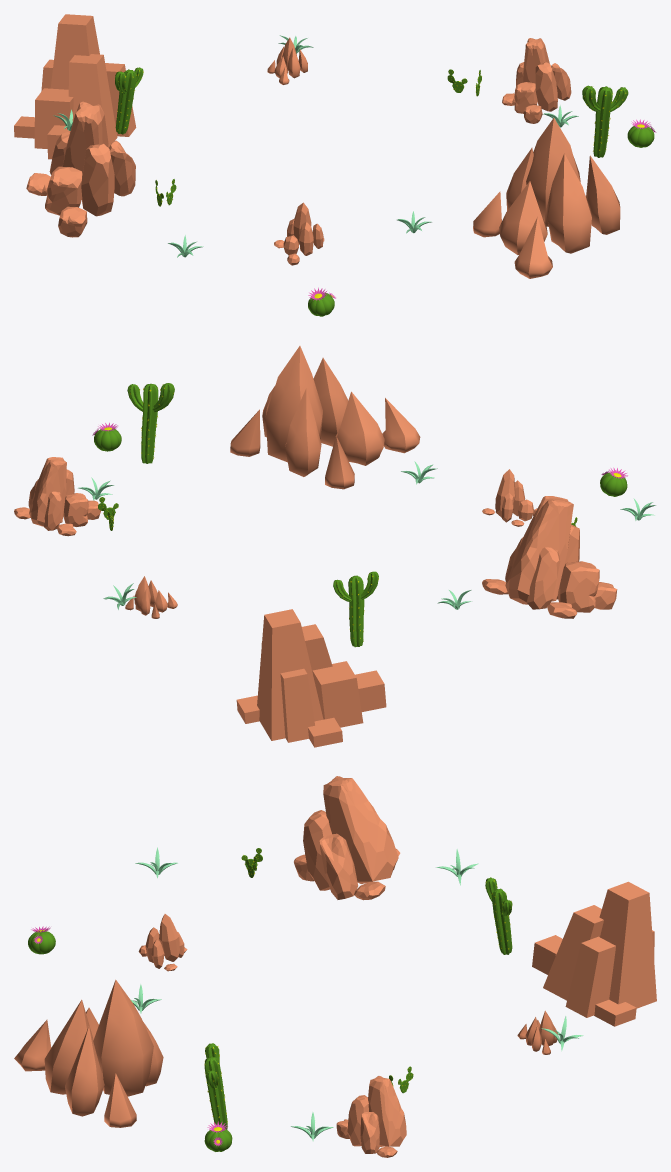
File: desert.glb
3 renders of one model, top to bottom at view 1: azimuth 30°, elevation 25°; view 2: azimuth 150°, elevation 25°; view 3: azimuth 270°, elevation 25°, orthographic. The views are drawn at different scales.
Visible parts, largest first — view 1: rock_05_rock05, rock_07, rock_03_rock03, rock_07.001, rock_01_rock01, Cactuss_02_cactus02, Cactuss_02_cactus02.001, rock_05_rock05.001, Cactus_03_flowers_flower.001, Cactus_03_flowers_flower; view 2: rock_05_rock05, rock_03_rock03, rock_07, rock_07.001, Cactuss_02_cactus02, Cactuss_02_cactus02.001, rock_01_rock01, rock_05_rock05.001, Cactus_03_flowers_flower.001, Cactus_03_flowers_flower; view 3: rock_03_rock03, rock_05_rock05, rock_07, rock_07.001, rock_01_rock01, Cactuss_02_cactus02, Cactuss_02_cactus02.001, rock_05_rock05.001, Cactus_03_flowers_flower, Cactus_03_flowers_flower.001.
Part boxes in pixels (x1,y1,x2,y2): rock_05_rock05: (473, 118, 620, 278); rock_07: (26, 101, 135, 237); rock_03_rock03: (14, 14, 136, 159); rock_07.001: (502, 38, 571, 123); rock_01_rock01: (274, 202, 324, 265); Cactuss_02_cactus02: (582, 85, 628, 157); Cactuss_02_cactus02.001: (115, 67, 143, 134); rock_05_rock05.001: (267, 37, 307, 84); Cactus_03_flowers_flower.001: (308, 287, 335, 316); Cactus_03_flowers_flower: (627, 119, 656, 147); rock_05_rock05: (230, 346, 420, 489); rock_03_rock03: (236, 609, 386, 747); rock_07: (482, 496, 617, 618); rock_07.001: (14, 457, 100, 536); Cactuss_02_cactus02: (127, 383, 174, 463); Cactuss_02_cactus02.001: (333, 571, 378, 647); rock_01_rock01: (482, 469, 537, 526); rock_05_rock05.001: (125, 576, 177, 618); Cactus_03_flowers_flower.001: (600, 467, 627, 496); Cactus_03_flowers_flower: (92, 422, 121, 451); rock_03_rock03: (532, 881, 656, 1026); rock_05_rock05: (14, 979, 163, 1127); rock_07: (294, 776, 400, 900); rock_07.001: (336, 1076, 406, 1157); rock_01_rock01: (138, 914, 187, 971); Cactuss_02_cactus02: (204, 1043, 227, 1129); Cactuss_02_cactus02.001: (485, 877, 512, 954); rock_05_rock05.001: (517, 1010, 558, 1054); Cactus_03_flowers_flower: (204, 1121, 232, 1151); Cactus_03_flowers_flower.001: (28, 926, 55, 954).
Size of the model in its own units: 26.34 by 7.07 by 25.68.
Materials: 7 (7 with a texture image).
